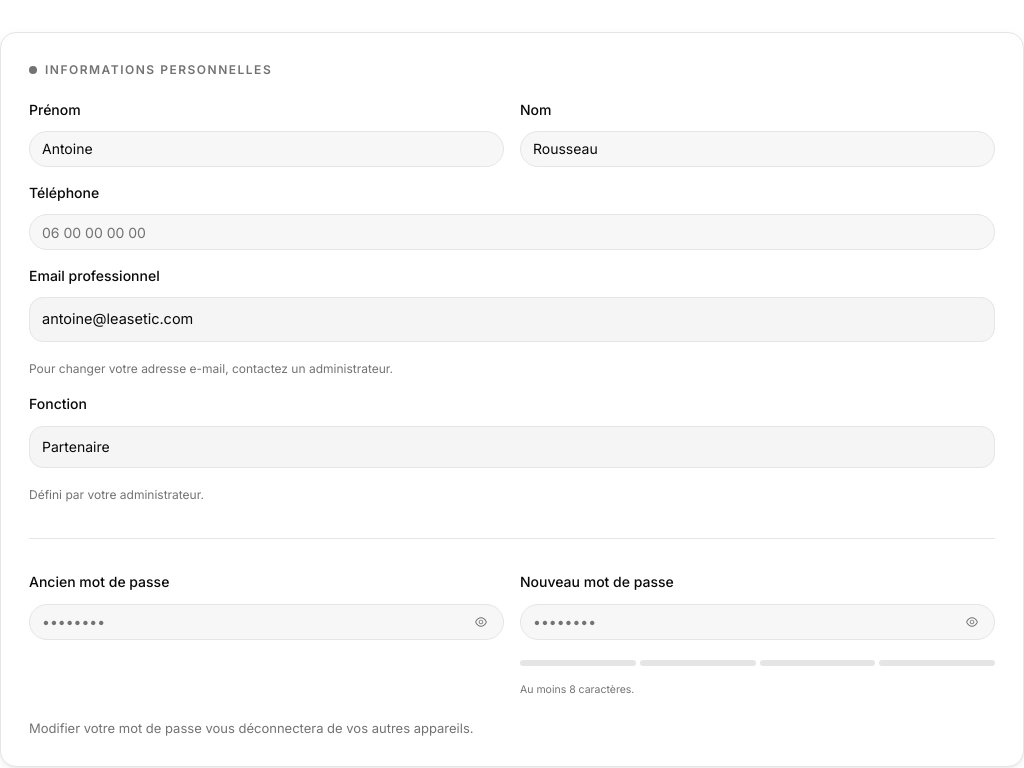
Test: ParametresForm › Test 2: identity inputs are registered — typing reaches form state
Replace the text in the field labelled "Prénom" with "Marie" at x=266, y=149, box [29,131,504,167]
(page scrolled)
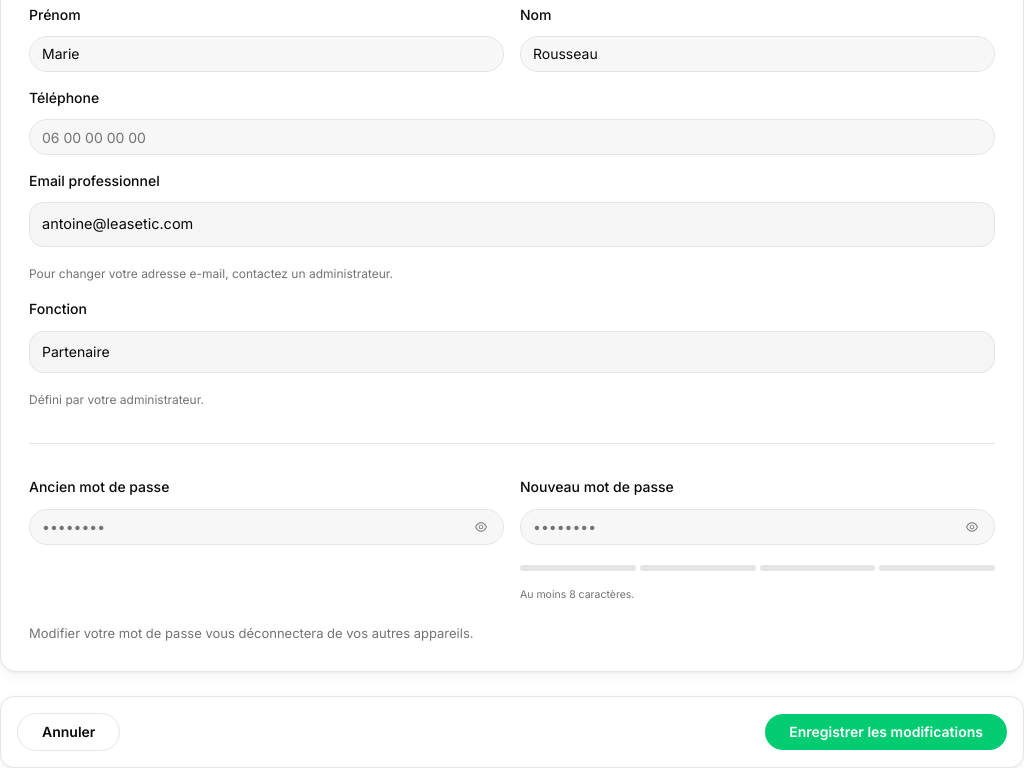
Result: the button "Enregistrer les modifications" is enabled at [765,714,1007,750]
